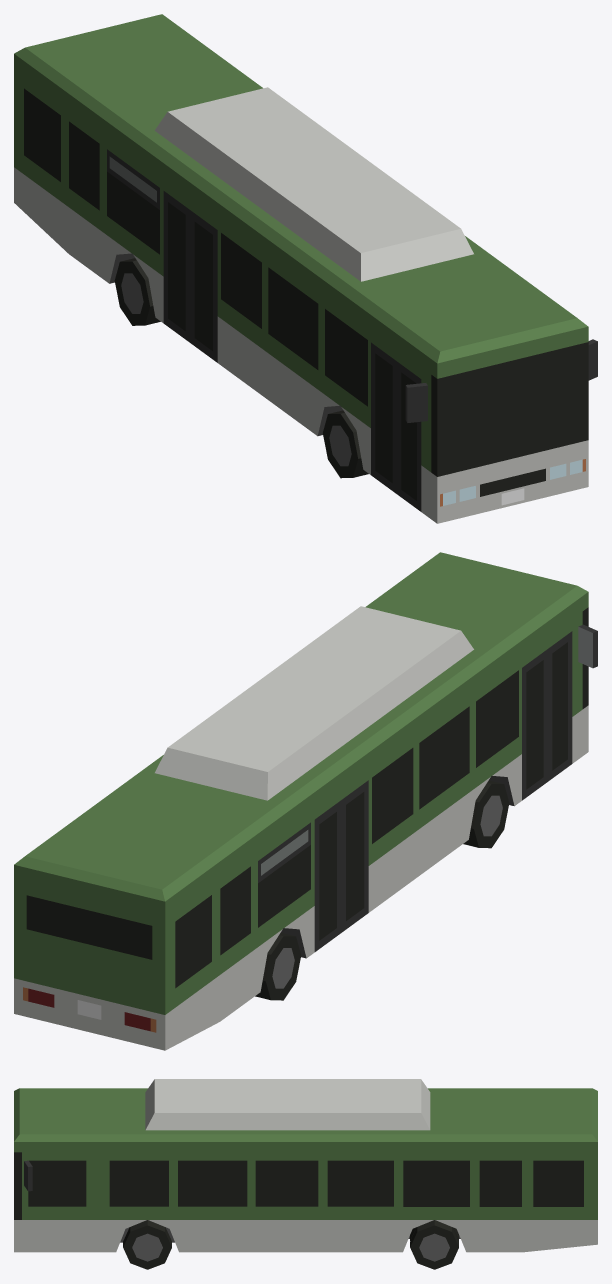
The model's file is Veh_Bus_01_Green.glb.
The picture shows the model from 3 angles, top to bottom: view 1: azimuth 30°, elevation 25°; view 2: azimuth 150°, elevation 25°; view 3: azimuth 270°, elevation 25°; orthographic projection. The views are drawn at different scales.
Visible parts, largest first — view 1: Bus_01_Green, Wheel_RR, Wheel_FR; view 2: Bus_01_Green, Wheel_RR, Wheel_FR; view 3: Bus_01_Green, Wheel_RL, Wheel_FL.
Boxes of the visible parts, x1,y1,x2,y2 form: Bus_01_Green: [14, 14, 597, 523]; Wheel_RR: [114, 258, 160, 325]; Wheel_FR: [323, 410, 368, 478]; Bus_01_Green: [14, 552, 597, 1050]; Wheel_RR: [255, 933, 301, 1000]; Wheel_FR: [463, 780, 509, 848]; Bus_01_Green: [14, 1079, 597, 1252]; Wheel_RL: [410, 1220, 458, 1269]; Wheel_FL: [123, 1220, 171, 1269].
Bounding box in the file's own units: 1.7 × 1.83 × 6.53.
1 material, 1 textured.
